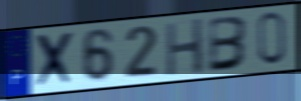0: (255, 10, 288, 69)
2: (123, 24, 160, 81)
6: (80, 27, 116, 84)
B: (207, 14, 251, 74)
H: (163, 16, 206, 78)
X: (33, 29, 76, 92)
